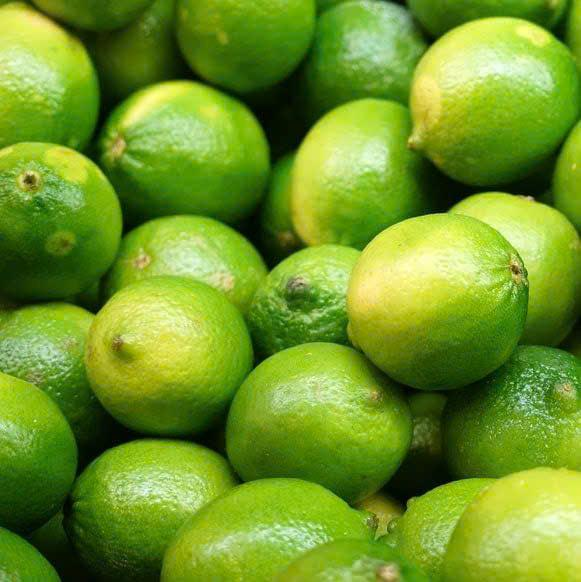lime: (353, 209, 516, 391), (411, 26, 572, 175), (237, 340, 400, 484), (99, 73, 263, 216), (101, 283, 252, 427), (179, 480, 364, 582), (0, 139, 116, 301), (70, 439, 210, 566), (444, 357, 581, 481), (478, 182, 581, 342), (300, 83, 410, 230), (434, 474, 581, 582), (4, 10, 106, 154), (113, 209, 257, 310), (1, 379, 90, 538), (168, 0, 322, 89), (256, 231, 361, 331), (10, 299, 91, 420)
